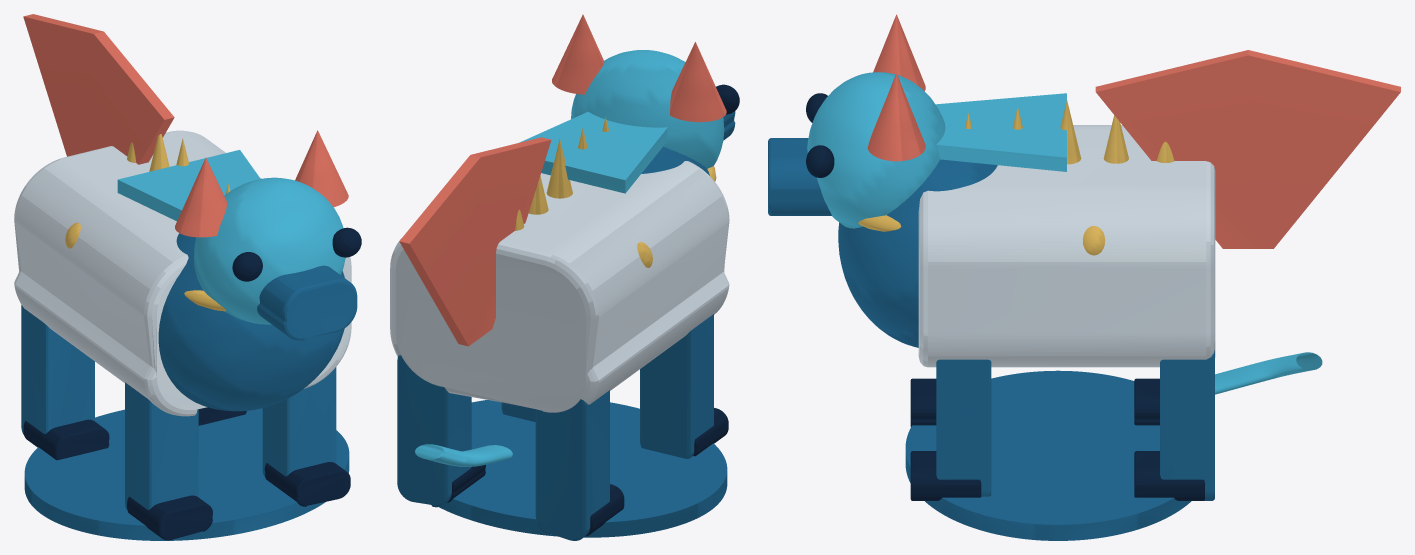
The model's file is 0134_海洋动物图鉴_蓝鲸.glb.
3 renders of one model, left to right at view 1: azimuth 30°, elevation 25°; view 2: azimuth 150°, elevation 25°; view 3: azimuth 270°, elevation 25°, orthographic. The views are drawn at different scales.
Visible parts, largest first — view 1: card_0134; view 2: card_0134; view 3: card_0134.
Part boxes in pixels (<box>): card_0134: <box>14,14,361,540</box>; card_0134: <box>390,14,739,540</box>; card_0134: <box>768,14,1400,540</box>.
Size of the model in its own units: 0.7856 by 1 by 1.36.
